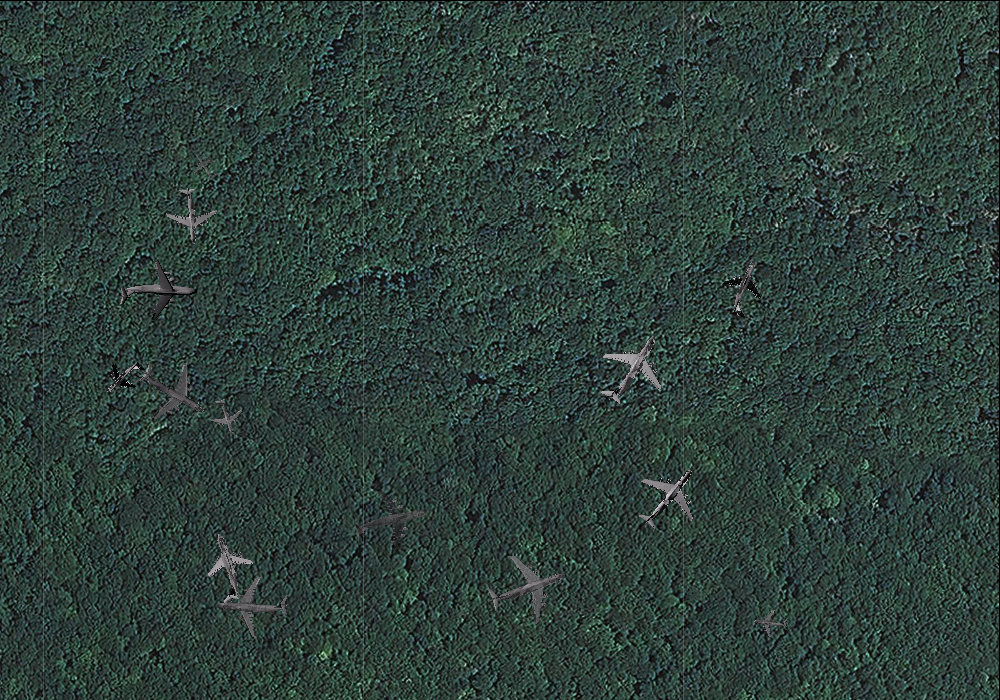plane: (580, 315, 684, 420), (477, 538, 578, 637), (620, 448, 717, 545), (124, 343, 221, 439), (345, 479, 435, 566), (186, 525, 265, 610), (116, 255, 198, 330), (215, 569, 291, 642), (711, 252, 779, 325), (94, 348, 153, 408), (161, 185, 219, 245), (203, 393, 248, 440), (751, 603, 790, 641), (185, 147, 222, 184)
